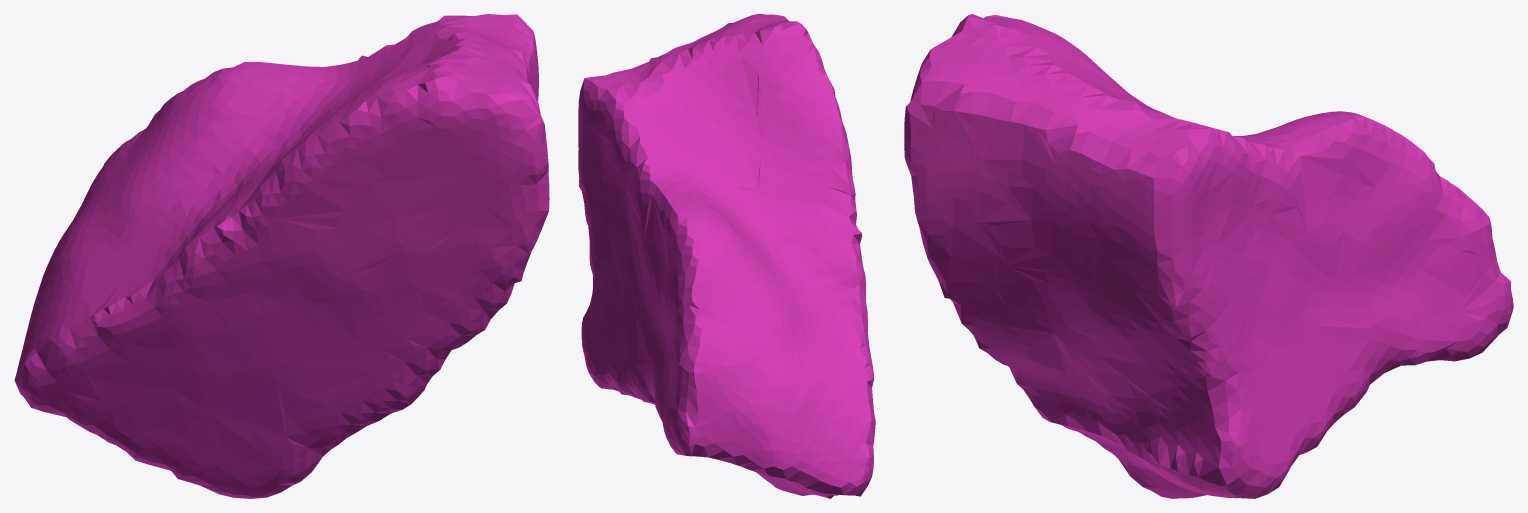
Rendered from Model_10051_LH__Area_19_of_cortex__dorsointermediate_part_(A19DI).obj.
3 views of the same model, side by side, from view 1: azimuth 30°, elevation 25°; view 2: azimuth 150°, elevation 25°; view 3: azimuth 270°, elevation 25° (orthographic). The views are drawn at different scales.
Bounding box in the file's own units: 3.07 × 3.19 × 3.32.
